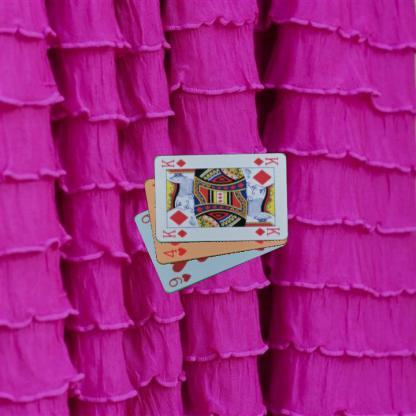4h: (160, 245, 188, 259)
9h: (166, 270, 192, 288)
Kd: (250, 155, 279, 167), (160, 227, 188, 239)
